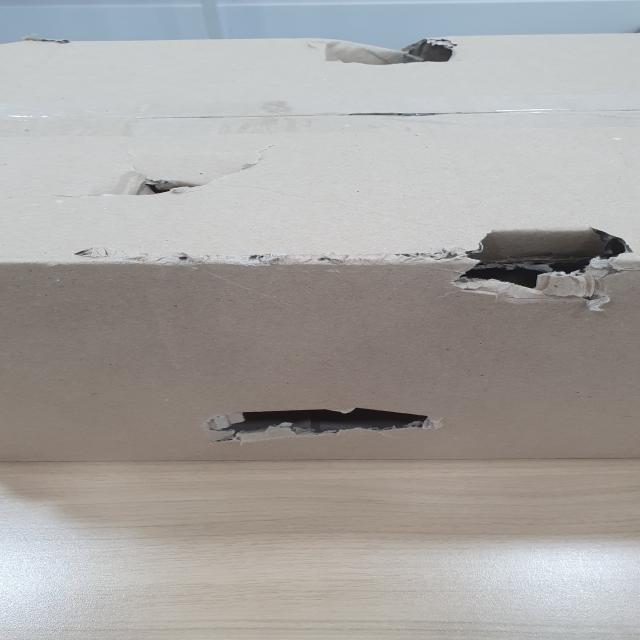hole: (422, 216, 634, 308), (195, 402, 442, 444), (317, 40, 461, 69), (123, 173, 205, 197)
